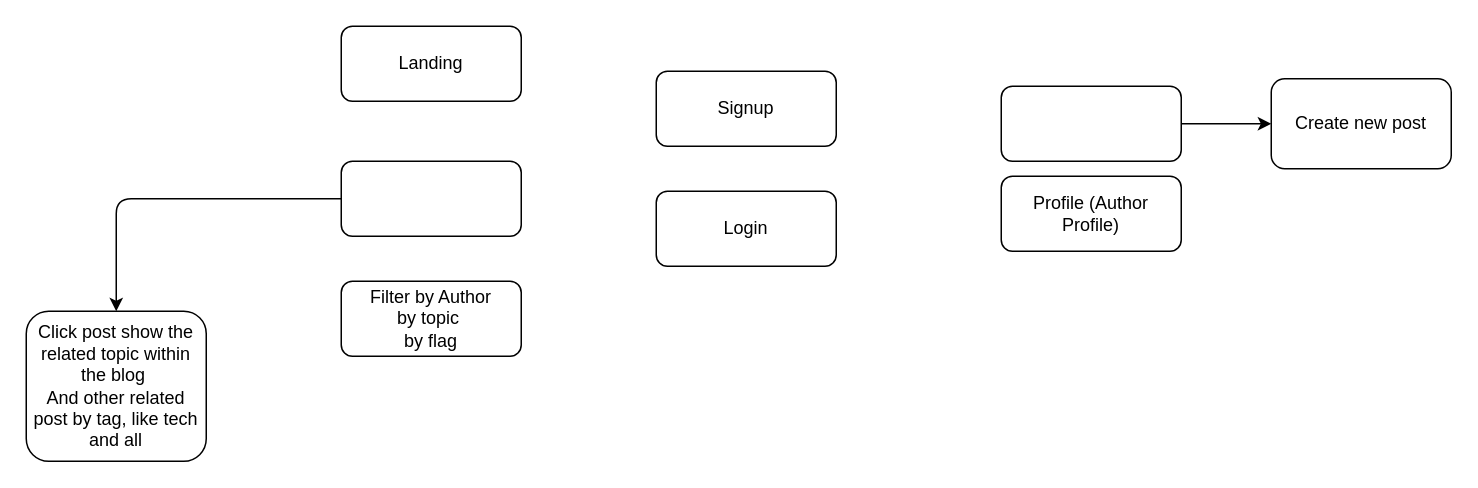
Some shapes in this 1478 by 488 pixel diagram are drawn without their labels. Here are the shapes that lost their labels. From the top down, the centre of each, then its label:
At [1090,123]: "Show blogs - (add new blog) (post in them)".
At [430,198]: "Show posts".
